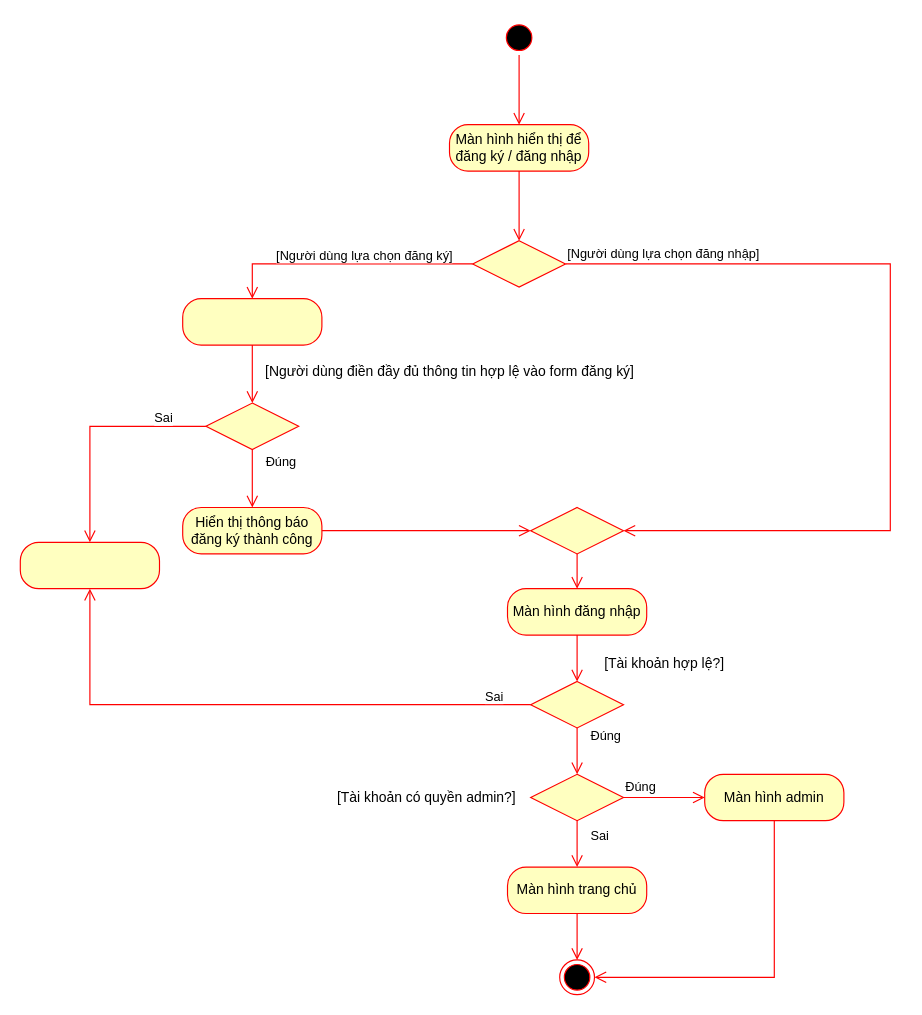
This 922x1015 diagram has some shape labels left out. Each missing label, with the centre of its shape:
"Hiển thị thông báo lỗi" goes at (89,565).
"Màn hình đăng ký" goes at (252,321).
